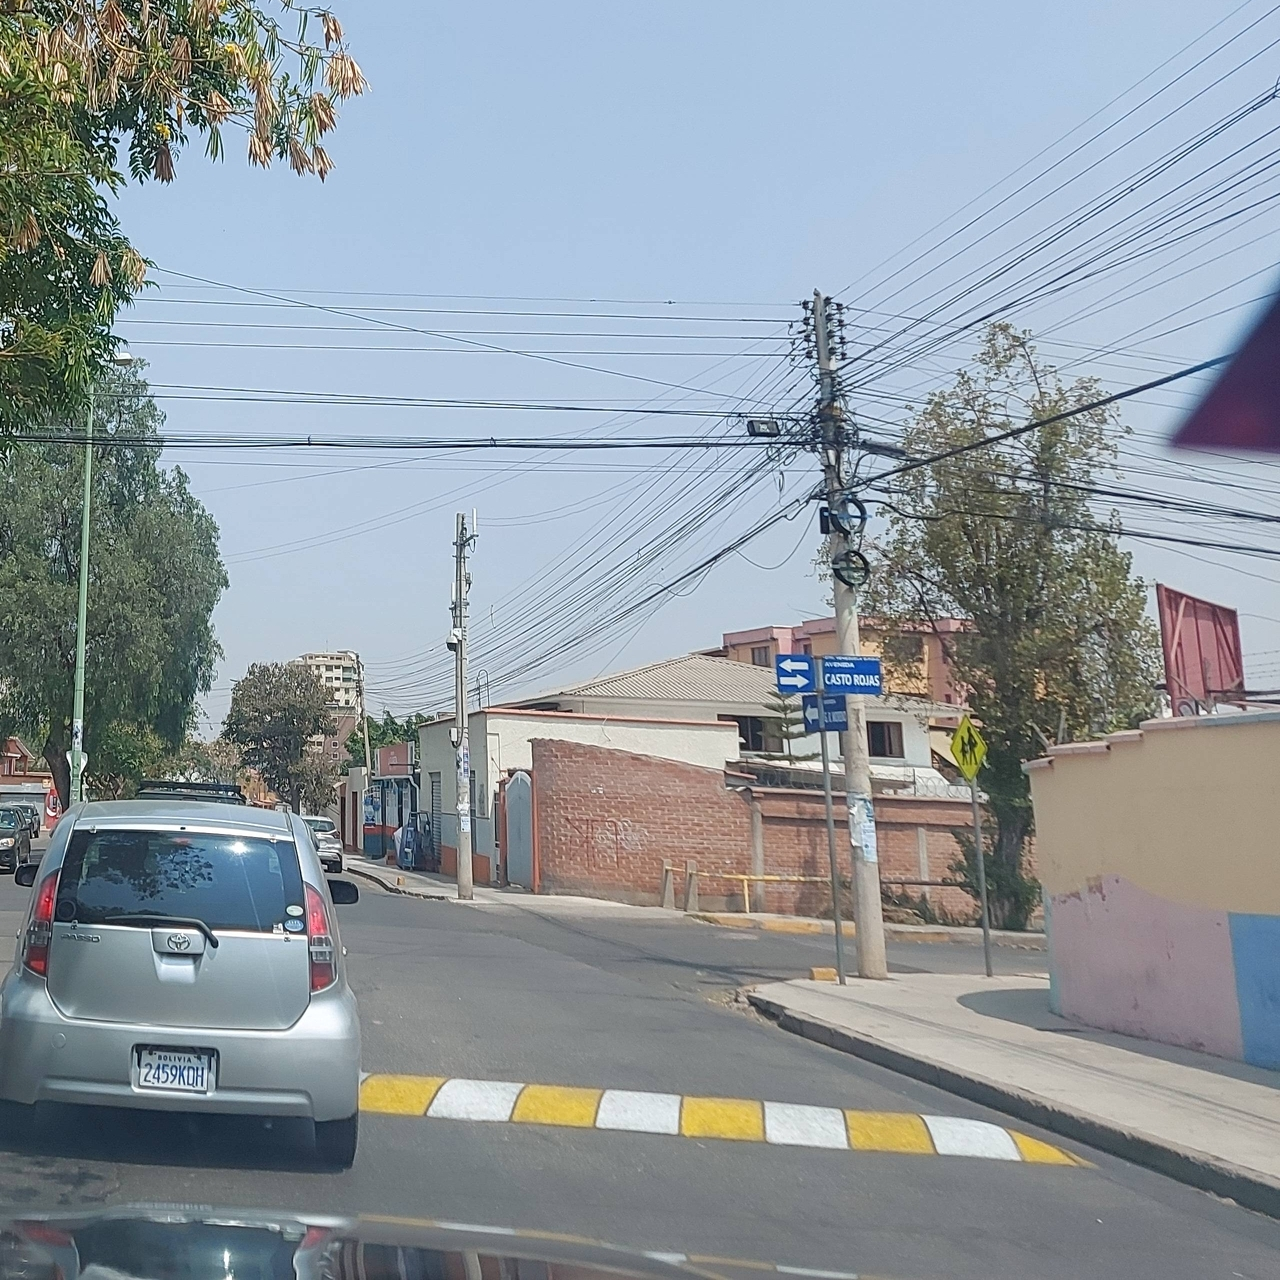zona-escolar: (947, 716, 983, 784)
